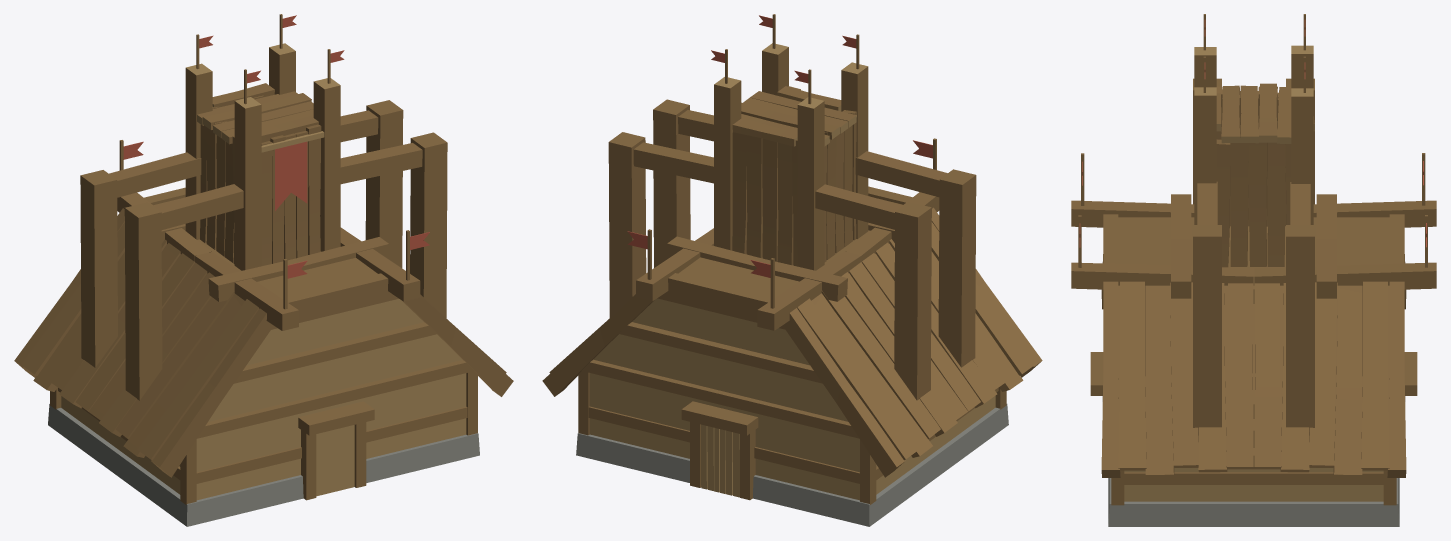
The model's file is TowerHouse_FirstAge.glb.
3 renders of one model, left to right at view 1: azimuth 30°, elevation 25°; view 2: azimuth 150°, elevation 25°; view 3: azimuth 270°, elevation 25°, orthographic. The views are drawn at different scales.
Parts seen in each view (by area): view 1: TowerHouse_FirstAge; view 2: TowerHouse_FirstAge; view 3: TowerHouse_FirstAge.
Part boxes in pixels (x1,y1,x2,y2): TowerHouse_FirstAge: (14,14,513,526); TowerHouse_FirstAge: (542,14,1042,526); TowerHouse_FirstAge: (1071,14,1436,526).
Size of the model in its own units: 1.39 by 1.47 by 1.17.
